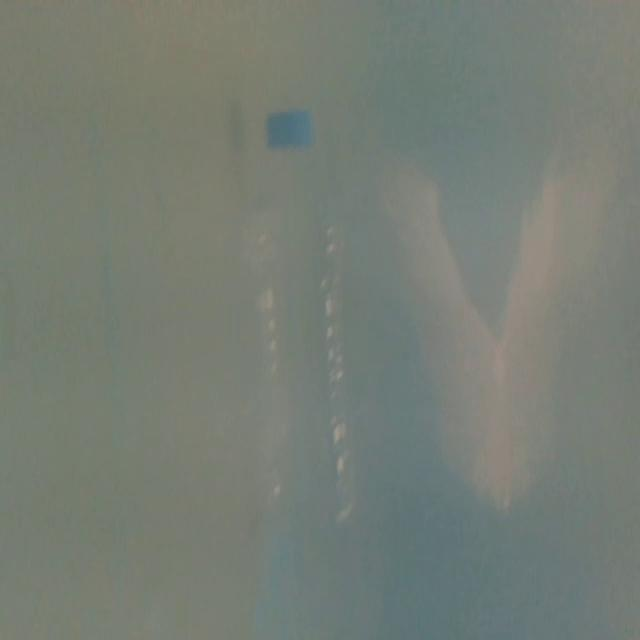plastic bags: (401, 167, 563, 493)
plastic bottle: (248, 104, 357, 543)
